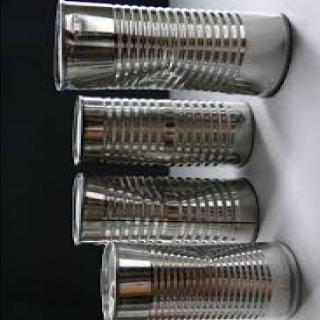Anorganik: (50, 2, 292, 94), (60, 170, 266, 250), (97, 238, 301, 316), (67, 97, 256, 167)
